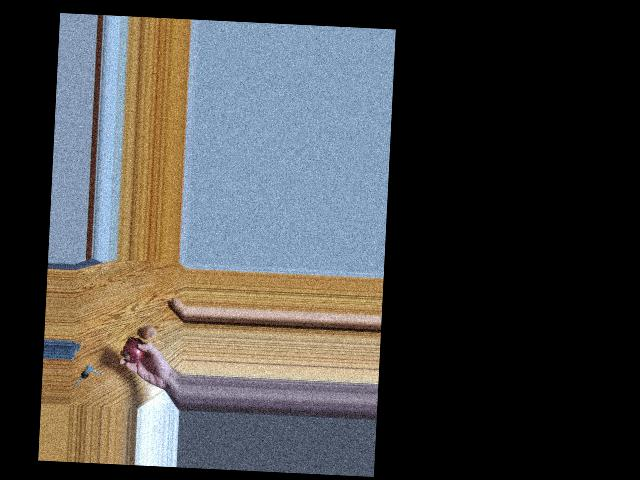onion: (140, 323, 156, 346)
